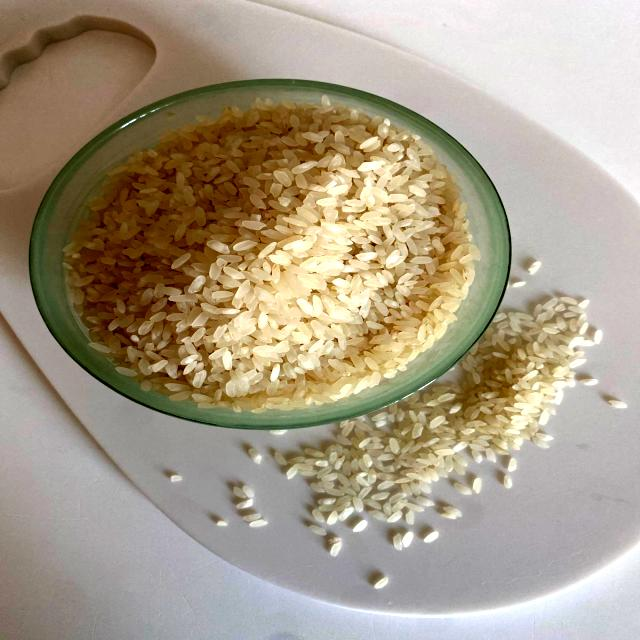rice: (104, 131, 416, 379), (355, 335, 552, 508)
